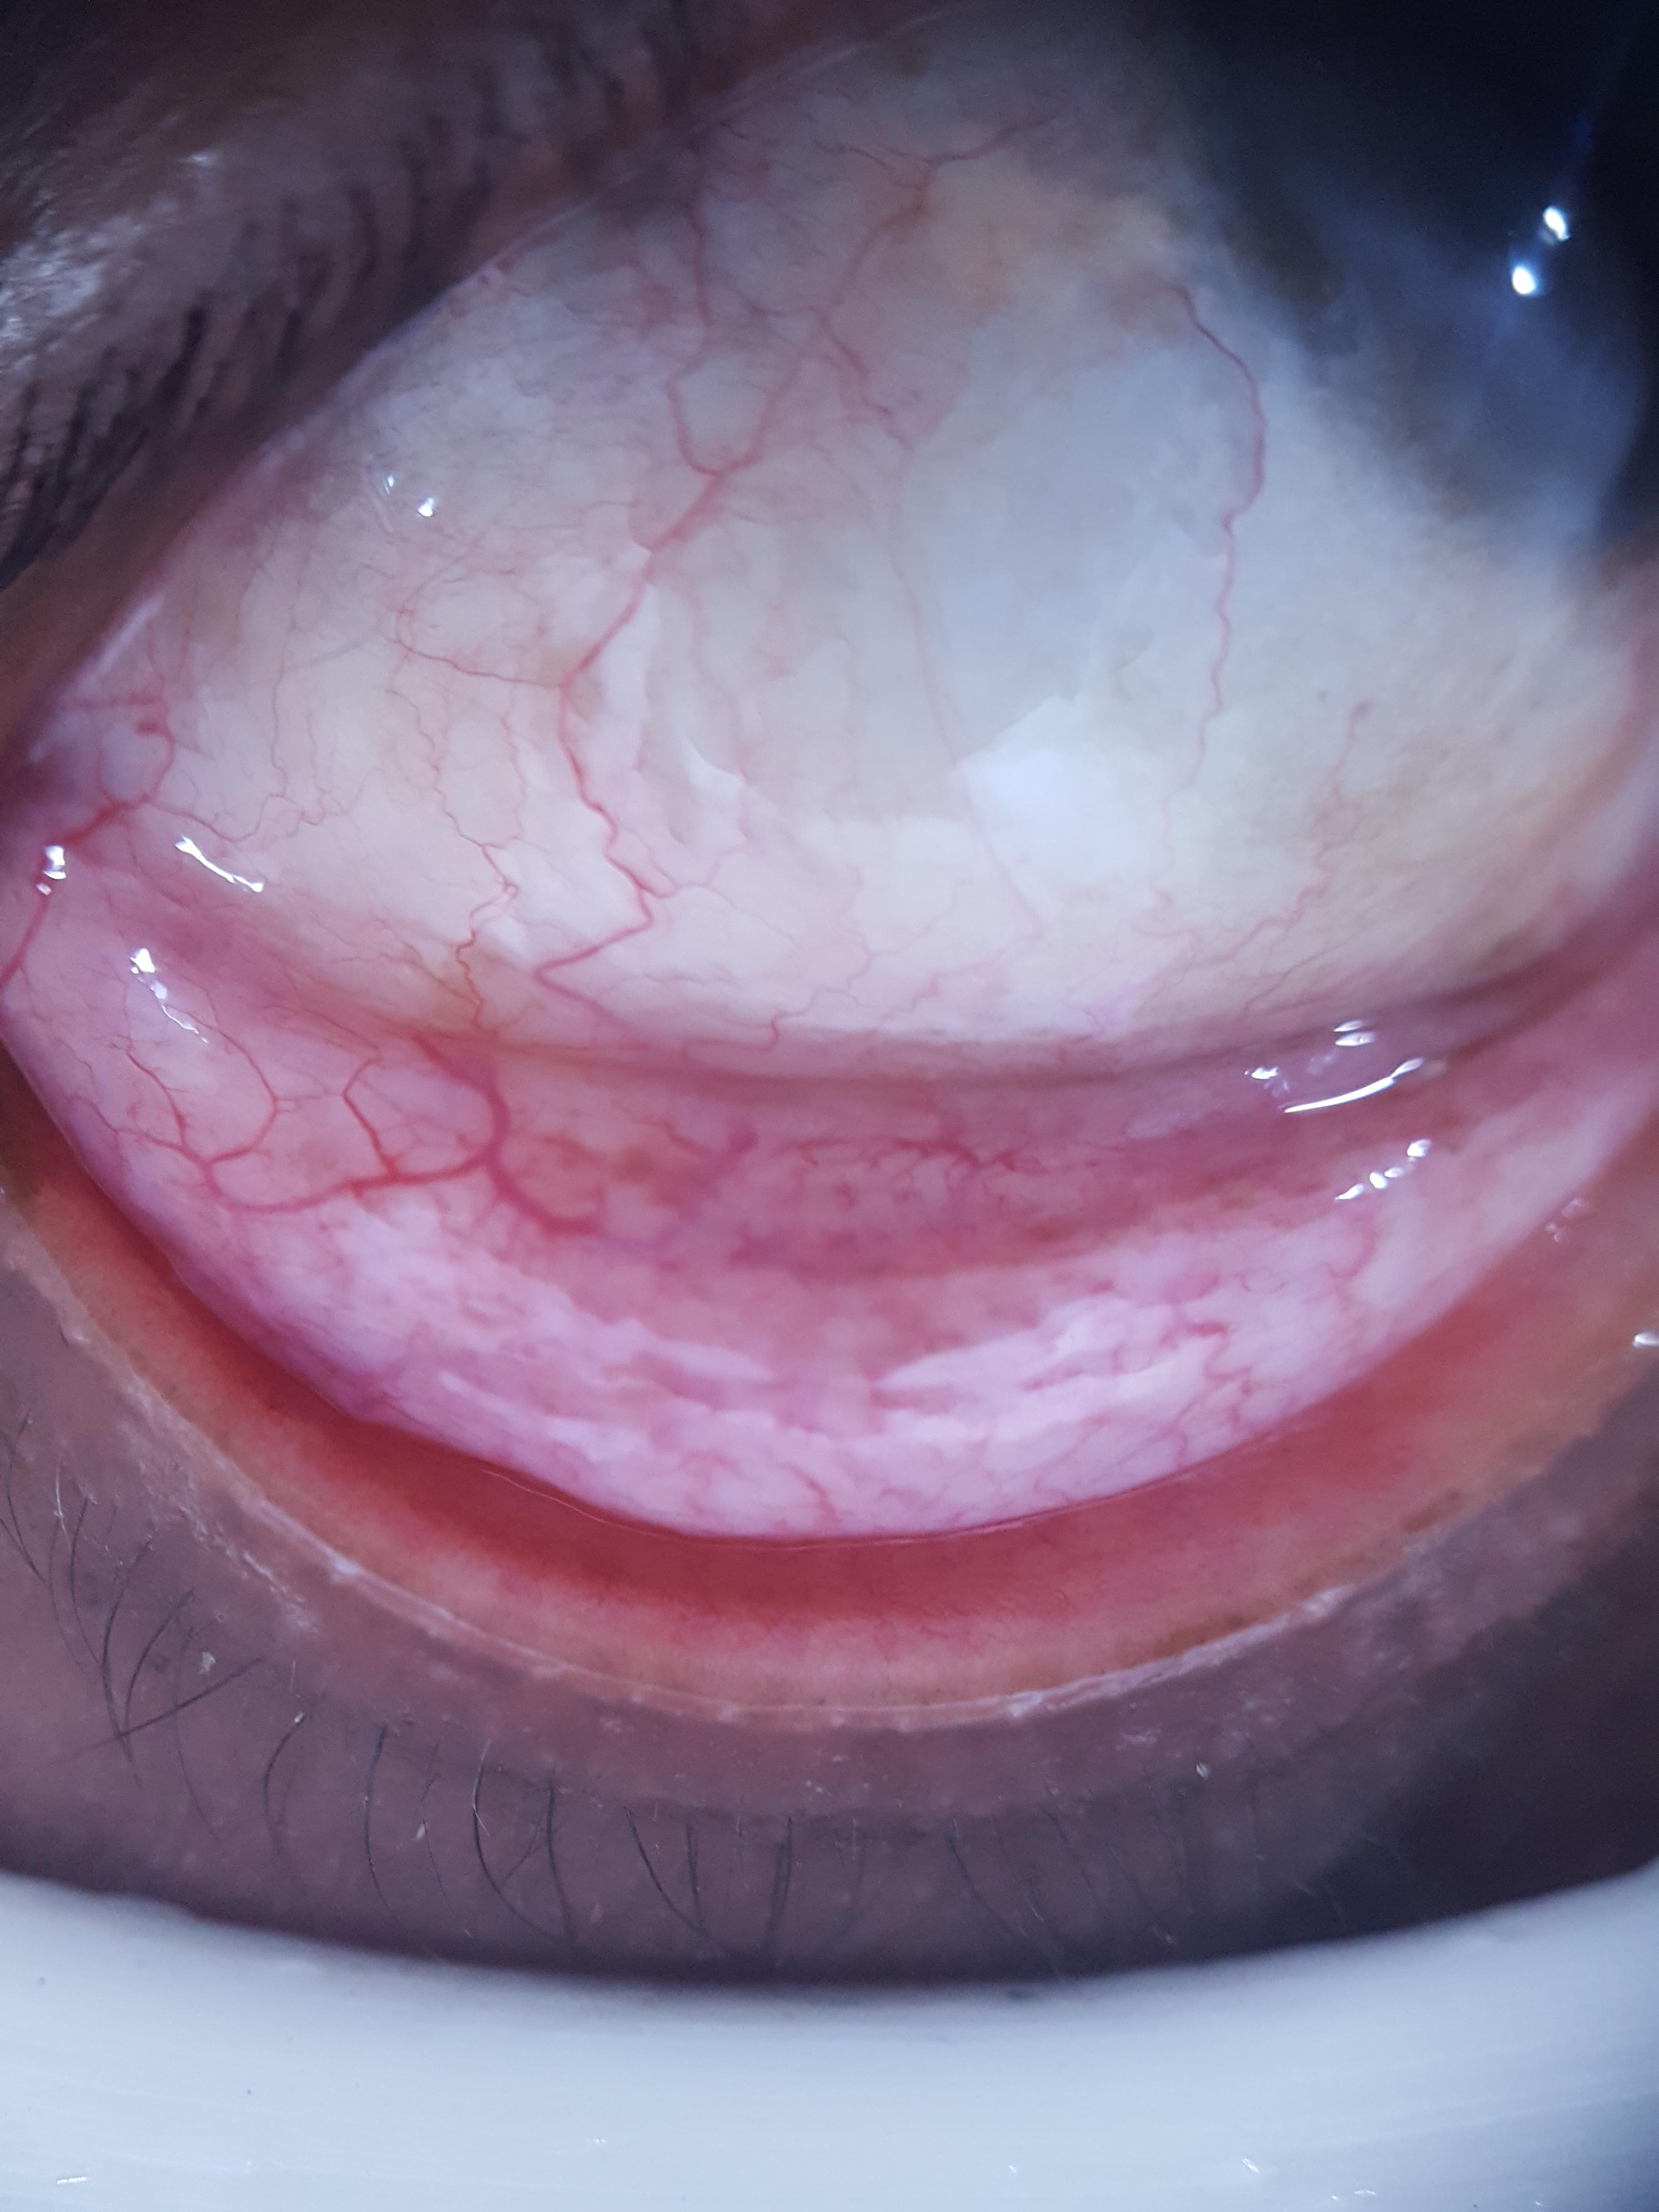forniceal: (0, 824, 1659, 1541)
forniceal_palpebral: (0, 817, 1659, 1651)
palpebral: (14, 1083, 1659, 1646)
